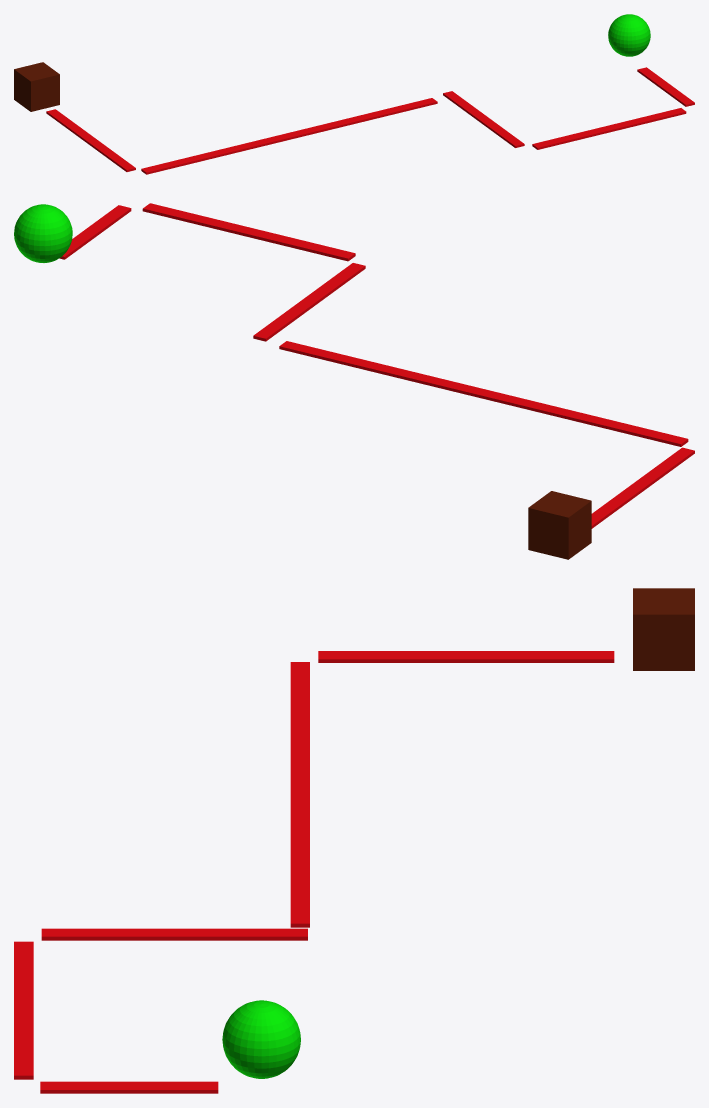
File: BtoE.glb
3 renders of one model, top to bottom at view 1: azimuth 30°, elevation 25°; view 2: azimuth 150°, elevation 25°; view 3: azimuth 270°, elevation 25°, orthographic. The views are drawn at different scales.
Visible parts, largest first — view 1: B.004, EDestination, StartPoint, BtoCDE, B.001, B.005, B; view 2: B.004, EDestination, StartPoint, BtoCDE, B.005, B.001, B; view 3: B.004, EDestination, StartPoint, B.001, B.005, BtoCDE, B.
Part boxes in pixels (left/top/right/bottom): B.004: left=141, top=98, right=437, bottom=174; EDestination: left=14, top=62, right=59, bottom=111; StartPoint: left=608, top=14, right=650, bottom=56; BtoCDE: left=532, top=108, right=686, bottom=149; B.001: left=46, top=109, right=135, bottom=171; B.005: left=443, top=91, right=524, bottom=147; B: left=637, top=67, right=694, bottom=106; B.004: left=279, top=341, right=688, bottom=446; EDestination: left=528, top=491, right=591, bottom=559; StartPoint: left=14, top=204, right=72, bottom=262; BtoCDE: left=142, top=203, right=355, bottom=261; B.005: left=253, top=263, right=365, bottom=341; B.001: left=591, top=447, right=694, bottom=528; B: left=59, top=205, right=131, bottom=259; B.004: left=290, top=662, right=309, bottom=927; EDestination: left=633, top=588, right=694, bottom=670; StartPoint: left=222, top=1000, right=300, bottom=1078; B.001: left=318, top=651, right=614, bottom=662; B.005: left=41, top=928, right=307, bottom=940; BtoCDE: left=14, top=941, right=33, bottom=1079; B: left=40, top=1081, right=218, bottom=1093.
Bounding box in the file's own units: 0.6515 × 0.0583 × 0.4035.
